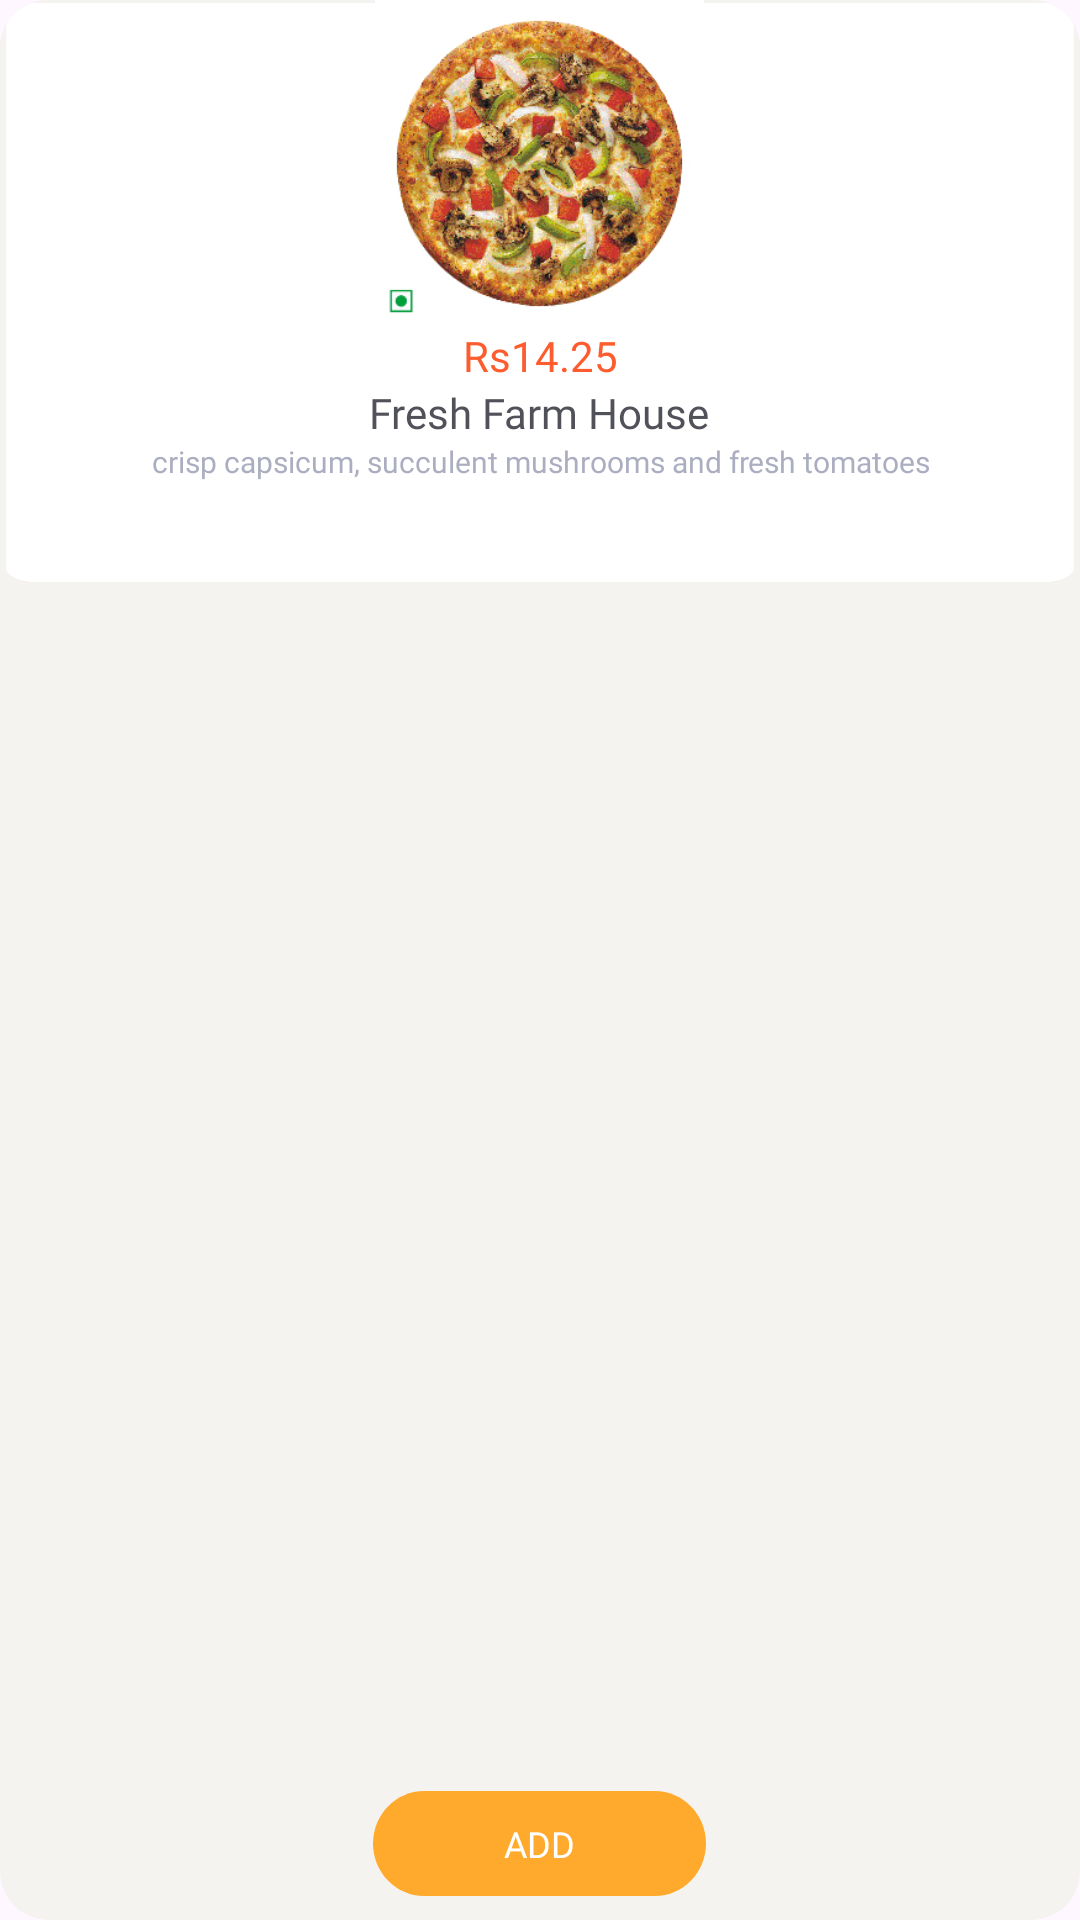

Where to tap for icons on this 1080px×1920px app screen, as (x,y):
pizza: (536,167)
